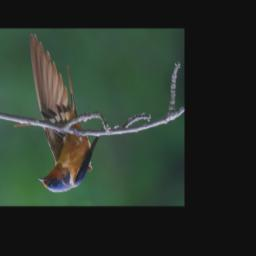Swallow: (28, 33, 105, 195)
